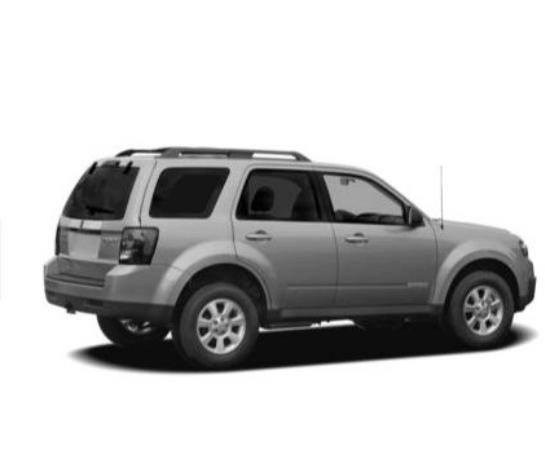car: (44, 148, 537, 369)
